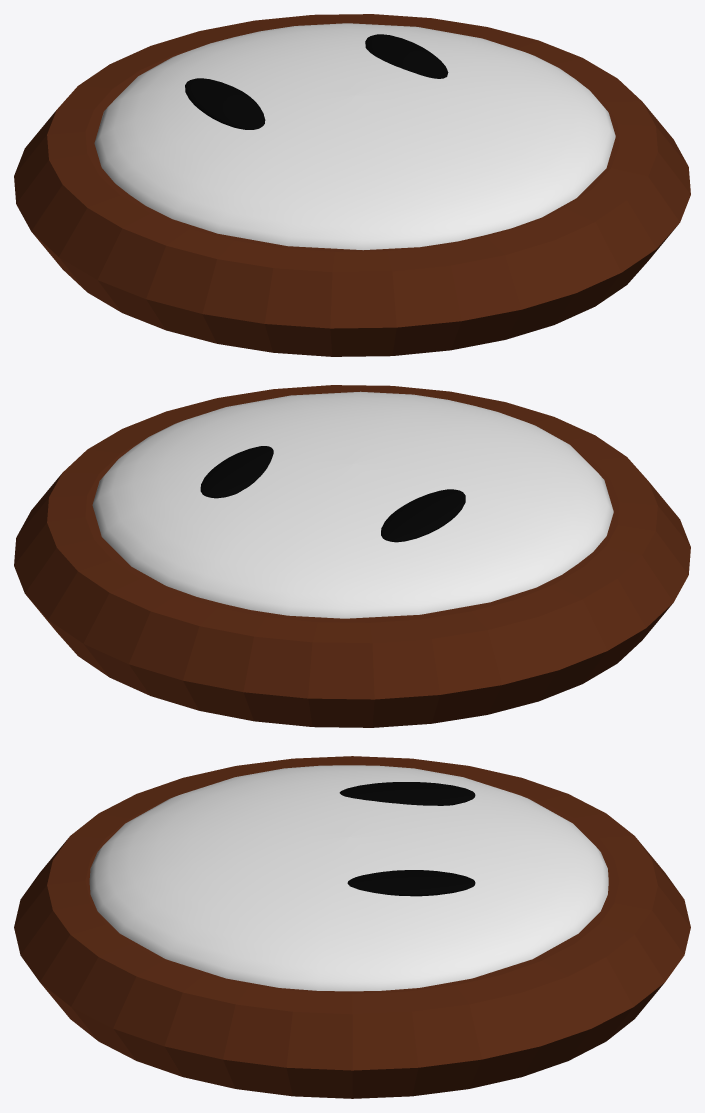
Rendered from GoldDongoBronze.fbx.
The picture shows the model from 3 angles, top to bottom: view 1: azimuth 30°, elevation 25°; view 2: azimuth 150°, elevation 25°; view 3: azimuth 270°, elevation 25°; orthographic projection.
Visible parts, largest first — view 1: Cylinder, SurfSphere, SurfSphere.001, SurfSphere.002; view 2: Cylinder, SurfSphere, SurfSphere.001, SurfSphere.002; view 3: Cylinder, SurfSphere, SurfSphere.002, SurfSphere.001.
Part boxes in pixels (left/top/right/bottom): Cylinder: left=14, top=14, right=690, bottom=356; SurfSphere: left=94, top=23, right=615, bottom=250; SurfSphere.001: left=185, top=78, right=265, bottom=129; SurfSphere.002: left=365, top=34, right=448, bottom=78; Cylinder: left=14, top=385, right=690, bottom=727; SurfSphere: left=92, top=391, right=613, bottom=618; SurfSphere.001: left=381, top=489, right=465, bottom=542; SurfSphere.002: left=200, top=446, right=273, bottom=498; Cylinder: left=14, top=756, right=690, bottom=1098; SurfSphere: left=89, top=765, right=608, bottom=991; SurfSphere.002: left=347, top=870, right=475, bottom=896; SurfSphere.001: left=339, top=782, right=475, bottom=805.
Size of the model in its own units: 222 by 48.12 by 222.
